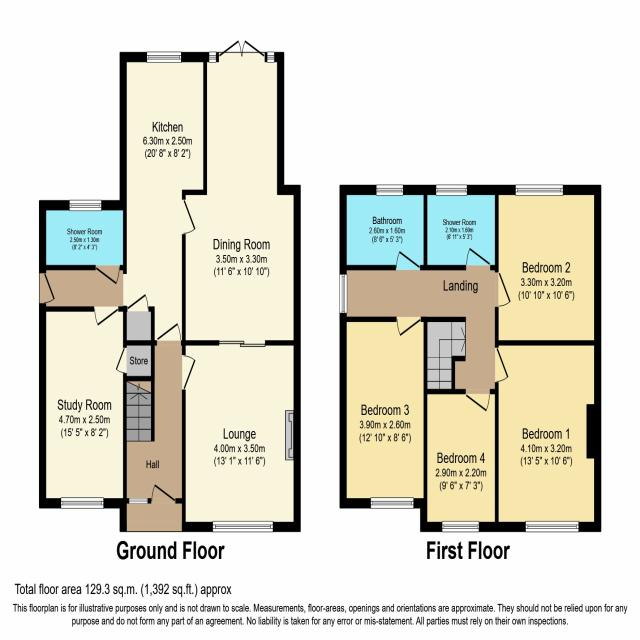DOOR: (494, 270, 513, 311), (464, 388, 491, 414), (465, 246, 491, 272), (395, 314, 422, 339), (494, 345, 510, 385), (156, 322, 182, 346), (395, 249, 421, 272), (181, 354, 197, 391), (93, 305, 119, 327), (39, 272, 56, 305), (182, 199, 197, 236), (95, 264, 120, 286), (151, 483, 176, 504), (127, 293, 149, 312), (115, 347, 127, 374)
DOUBLE DOOR: (219, 39, 265, 59)
ROOM: (181, 39, 301, 346), (117, 51, 207, 347), (181, 340, 301, 533), (494, 340, 602, 533), (38, 306, 127, 509), (494, 184, 602, 347), (339, 316, 428, 509), (420, 389, 499, 533), (338, 184, 428, 272), (423, 185, 499, 271)
WINDOW: (212, 520, 274, 533), (514, 183, 564, 198), (525, 520, 580, 533), (369, 495, 415, 510), (441, 520, 480, 534), (61, 497, 104, 509), (146, 51, 182, 64), (69, 199, 102, 212), (435, 184, 468, 197), (338, 274, 348, 316), (375, 184, 404, 197), (129, 498, 148, 504), (209, 51, 217, 63)
